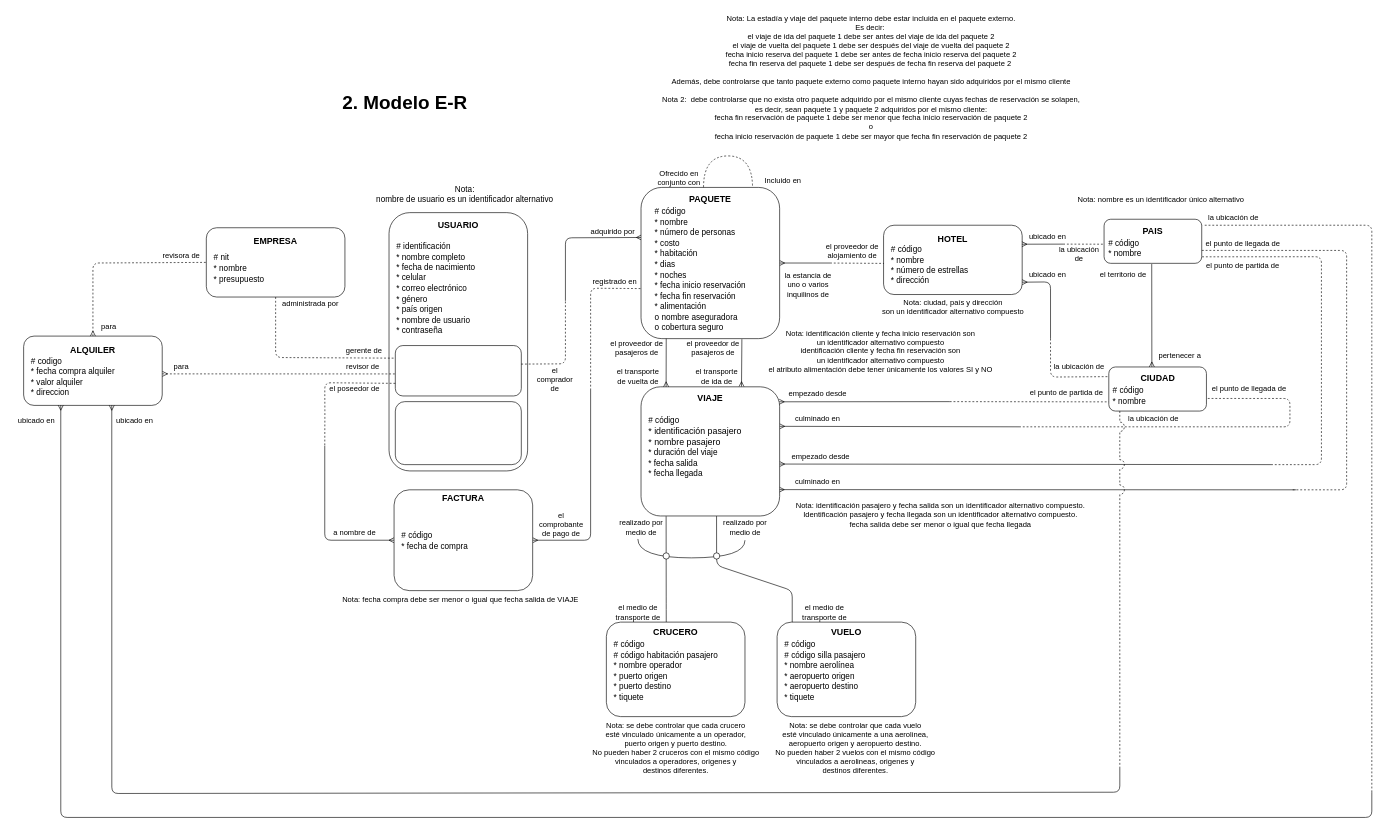
This 1388x833 diagram has some shape labels left out. The shapes that lost their labels are listed below. From the top down, each one's centre as x and y in pixels, then its label:
At point 458,370: "CLIENTE * celular de emergencia * correo de emergencia".
At point 458,433: "EMPLEADO # código de empleado * fecha inicio de labores * salario".
